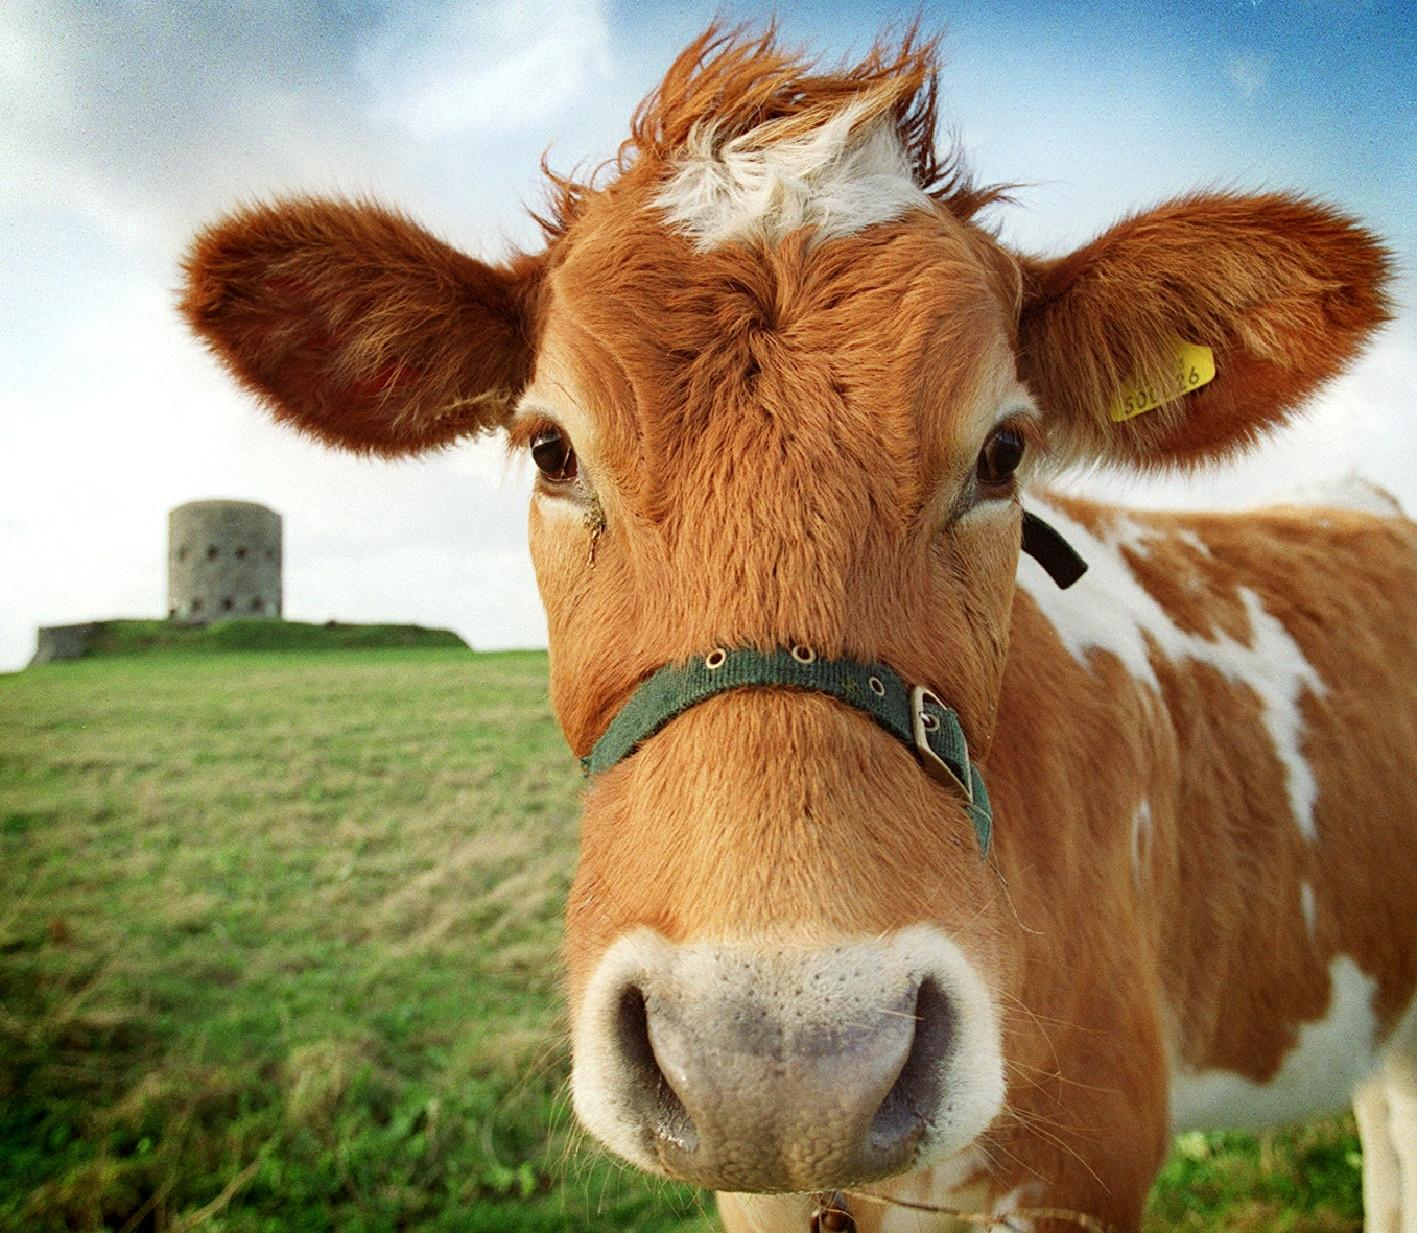muzzles: (543, 904, 1017, 1219)
